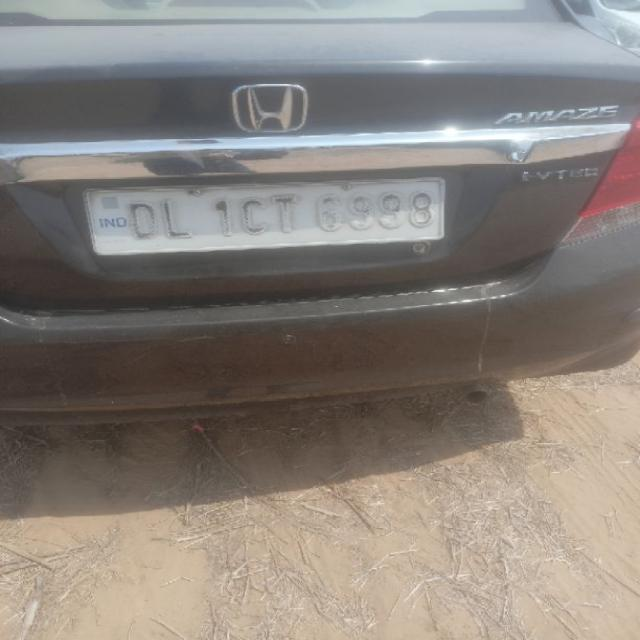license_plate: (80, 175, 448, 257)
